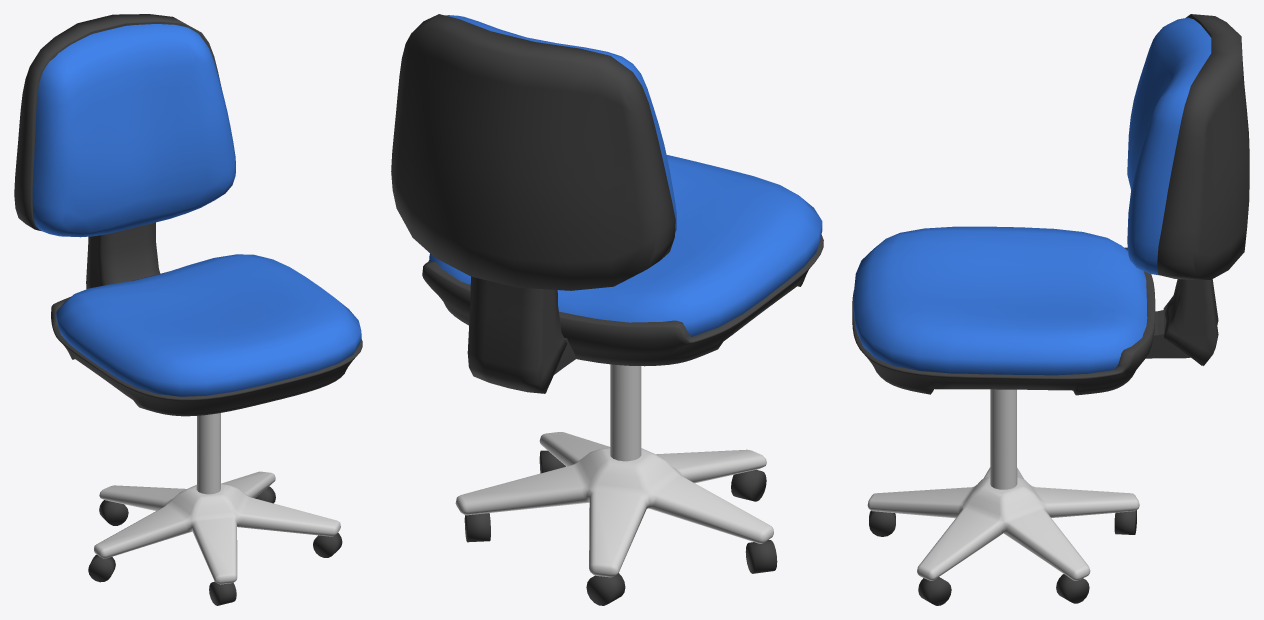
Rendered from chair.glb.
3 renders of one model, left to right at view 1: azimuth 30°, elevation 25°; view 2: azimuth 150°, elevation 25°; view 3: azimuth 270°, elevation 25°, orthographic. The views are drawn at different scales.
Parts seen in each view (by area): view 1: Silla; view 2: Silla; view 3: Silla.
Boxes of the visible parts, <box> form: Silla: <box>14,14,362,605</box>; Silla: <box>391,14,823,605</box>; Silla: <box>852,14,1249,605</box>.
Size of the model in its own units: 2.35 by 4.34 by 3.08.
